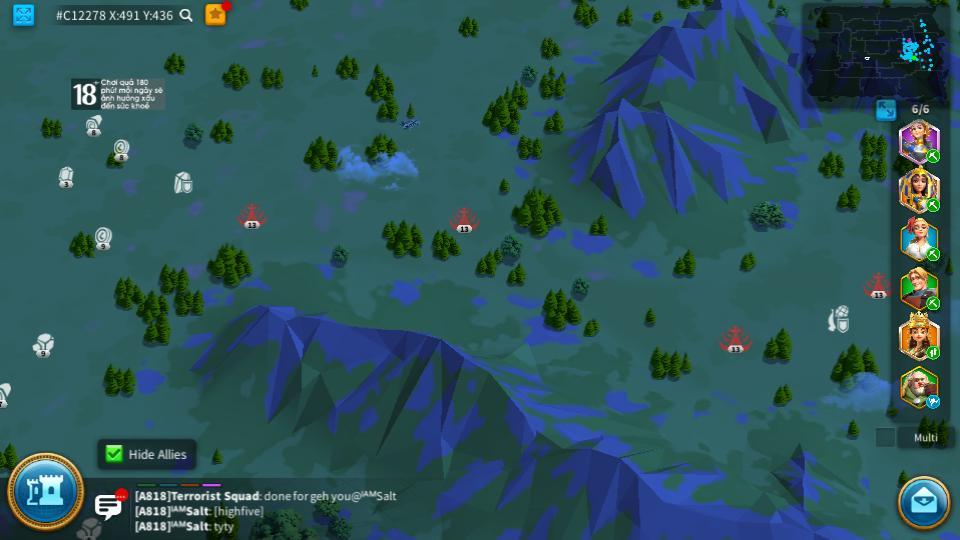gem-z-out: (55, 165, 75, 186)
march_idle: (925, 394, 942, 408)
march_marching: (925, 197, 941, 212), (925, 347, 941, 359), (925, 150, 941, 162), (925, 297, 941, 308)
